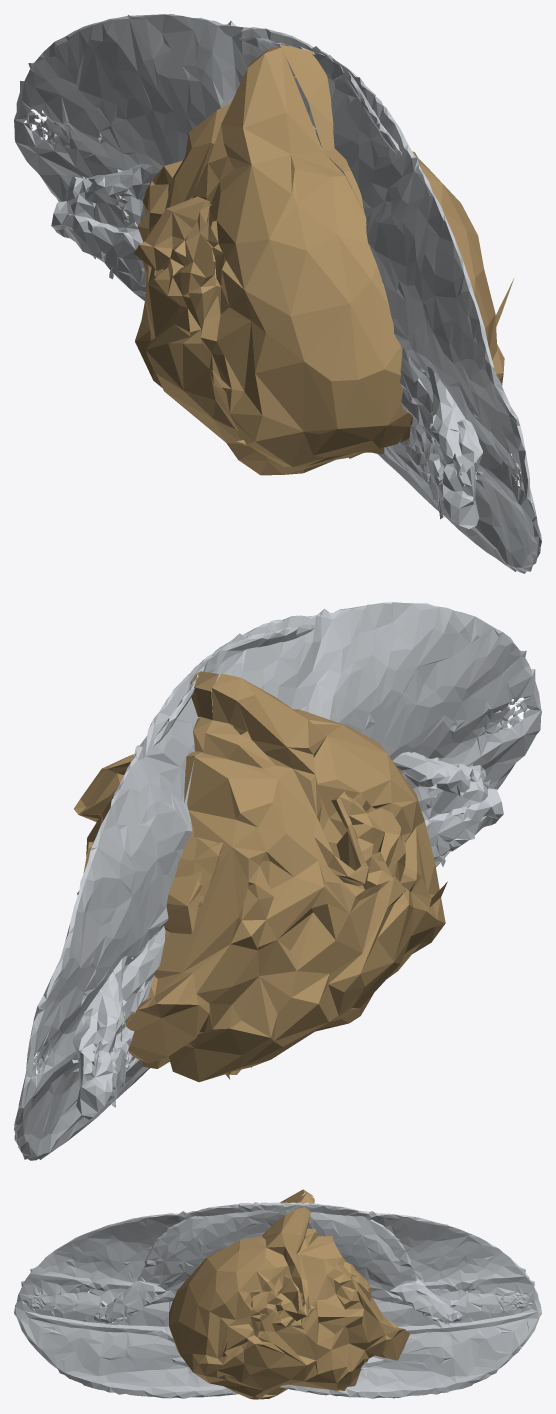
File: fly.glb
3 renders of one model, top to bottom at view 1: azimuth 30°, elevation 25°; view 2: azimuth 150°, elevation 25°; view 3: azimuth 270°, elevation 25°, orthographic. The views are drawn at different scales.
Visible parts, largest first — view 1: Thorax, RWing, LWing; view 2: Thorax, RWing, LWing, A3, A4; view 3: Thorax, LWing, RWing.
Boxes of the visible parts, <box> form: Thorax: <box>134,44,514,475</box>; RWing: <box>51,36,541,573</box>; LWing: <box>14,14,484,531</box>; Thorax: <box>74,671,447,1082</box>; RWing: <box>72,602,541,1119</box>; LWing: <box>14,624,503,1160</box>; A3: <box>164,823,202,934</box>; A4: <box>174,837,223,907</box>; Thorax: <box>169,1189,409,1399</box>; LWing: <box>94,1202,541,1398</box>; RWing: <box>14,1202,462,1398</box>.
Size of the model in its own units: 0.9153 by 1.11 by 2.69.
